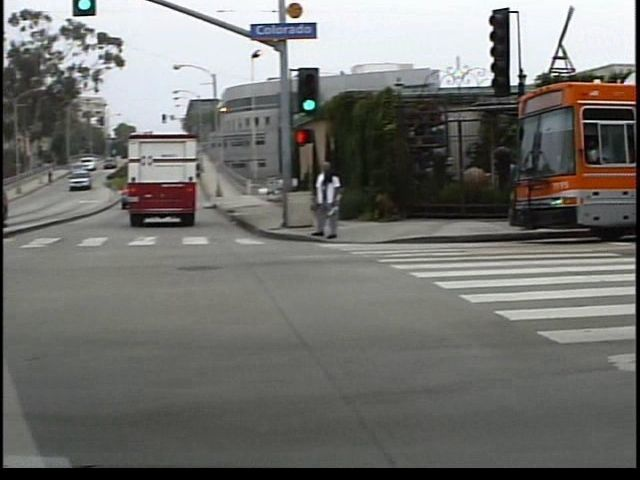person: (318, 156, 350, 240)
